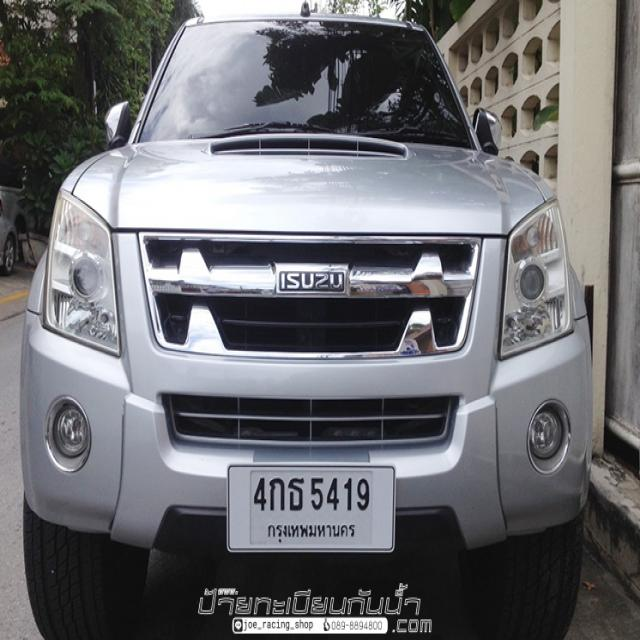license_plate: (226, 462, 396, 554)
